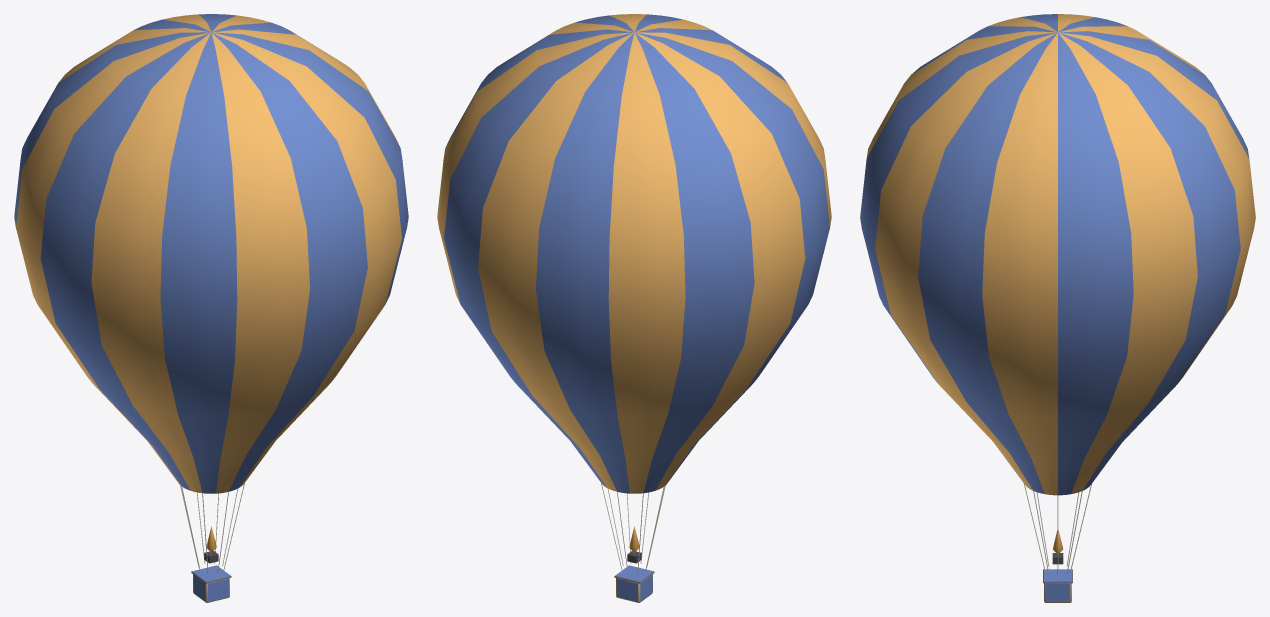
The model's file is SM_HotAirBalloon_C.fbx.
The picture shows the model from 3 angles, left to right: view 1: azimuth 30°, elevation 25°; view 2: azimuth 150°, elevation 25°; view 3: azimuth 270°, elevation 25°; orthographic projection.
Visible parts, largest first — view 1: SM_HotAirBalloon_C; view 2: SM_HotAirBalloon_C; view 3: SM_HotAirBalloon_C.
Boxes of the visible parts, x1=… form: SM_HotAirBalloon_C: x1=14, y1=14, x2=408, y2=602; SM_HotAirBalloon_C: x1=437, y1=14, x2=831, y2=602; SM_HotAirBalloon_C: x1=860, y1=14, x2=1255, y2=602.
Bounding box in the file's own units: 1840 × 2900 × 1840.
